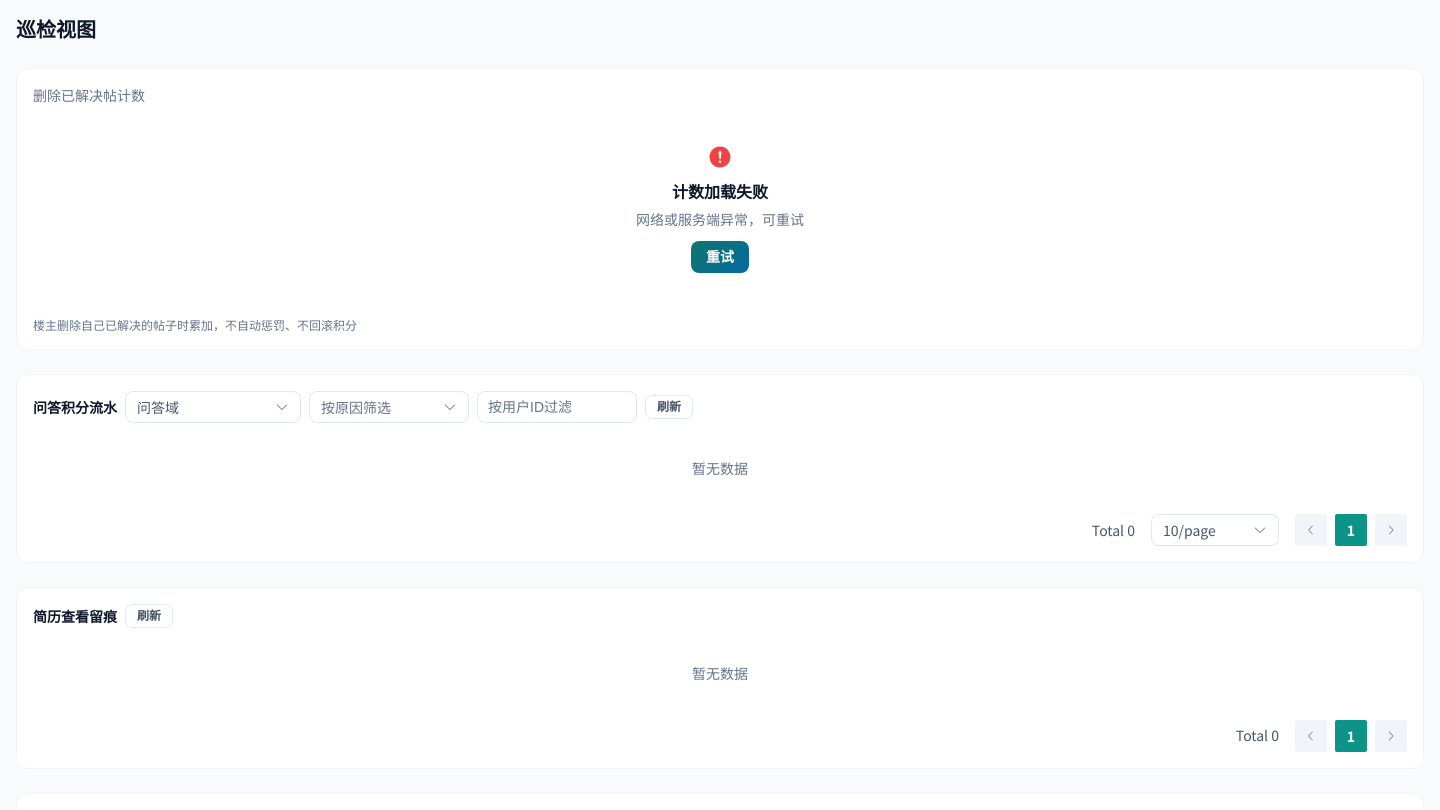
Test: Inspection 两档归属（#1102） › 档位二（只读计数 → useAsyncPage）：装载失败出错误态，点重试后计数回填
Click the button "重试" at [720, 257], box [691,241,749,273]
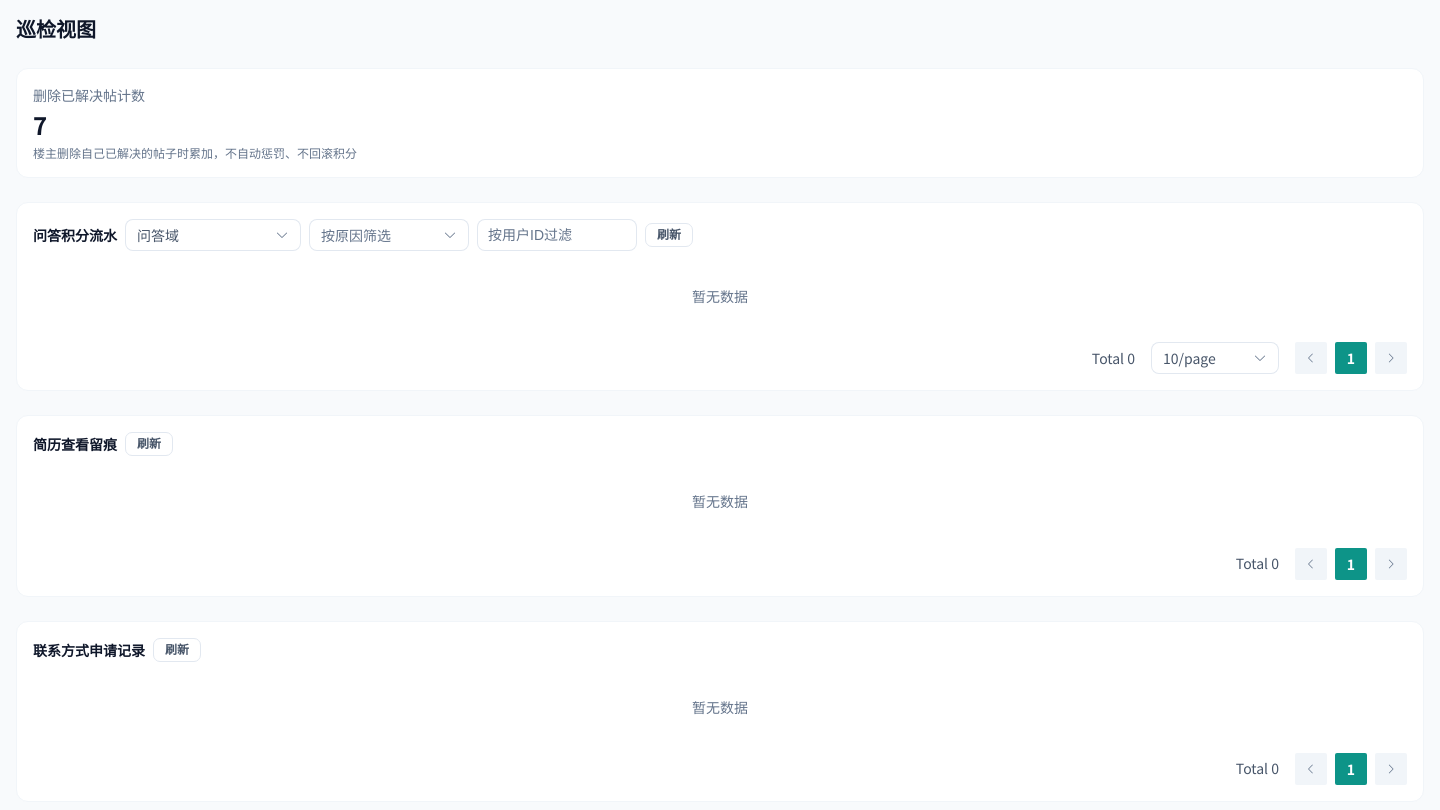
Expected: the text "计数加载失败" is gone
Expected: the text "7" is shown, [33,107,47,142]
